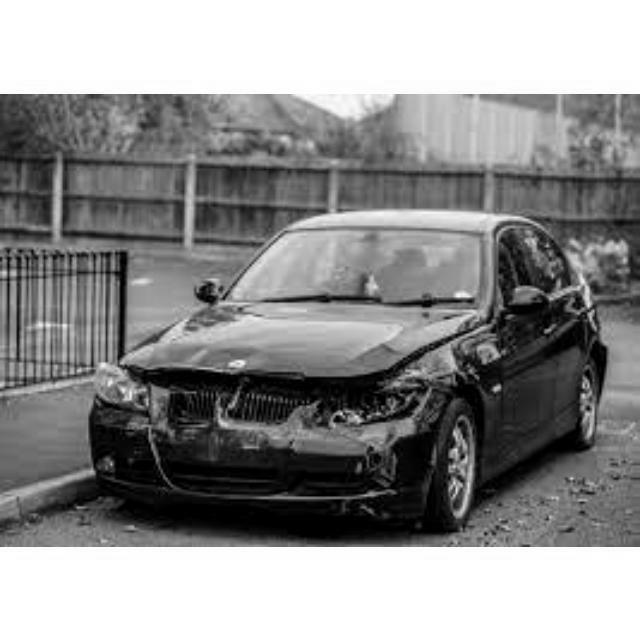bonnet-dent: (120, 300, 477, 383)
front-bumper-dent: (87, 403, 432, 506)
